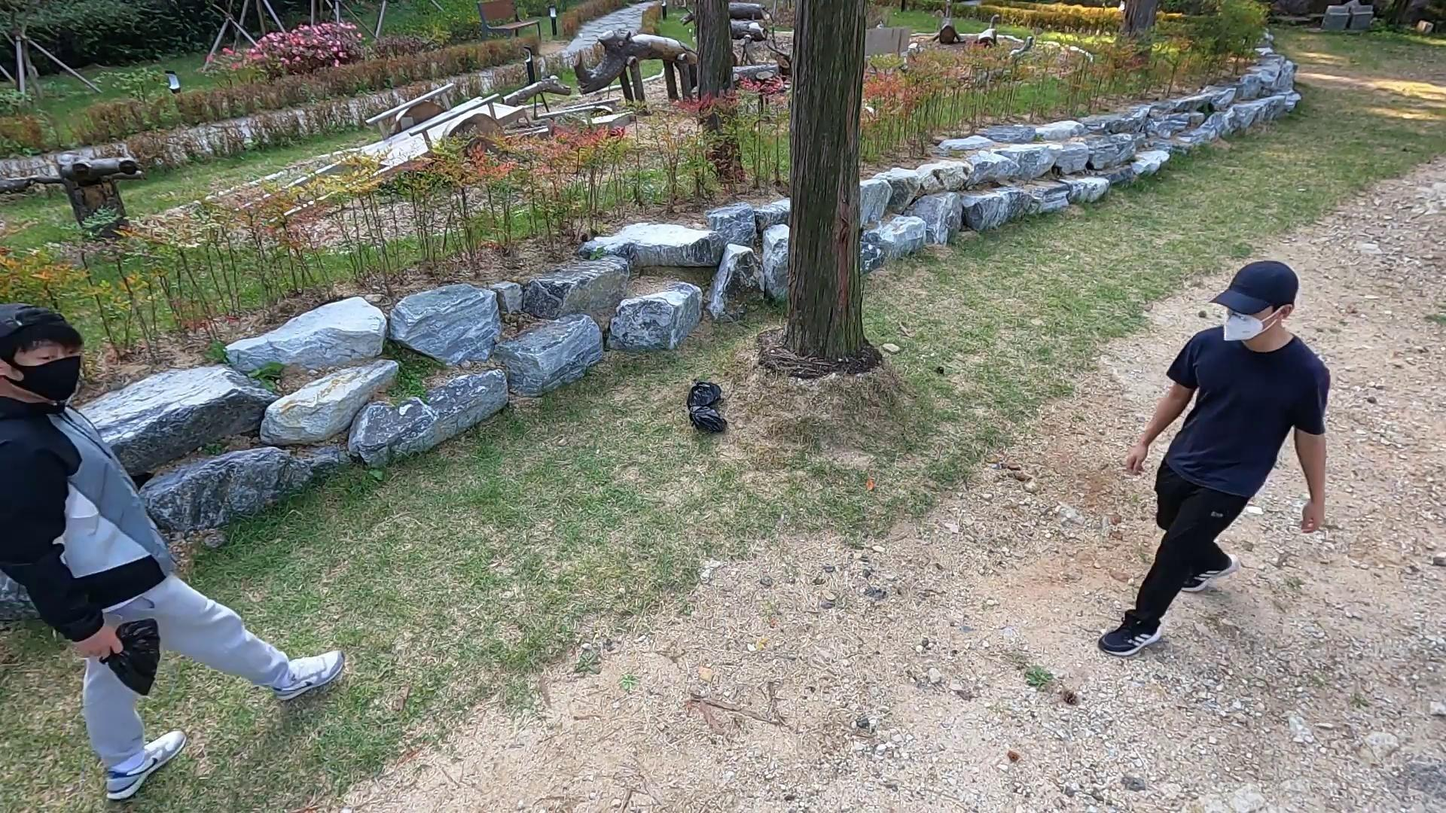person: (0, 300, 339, 813), (1098, 258, 1335, 657)
trash: (100, 615, 164, 695), (686, 379, 723, 408), (688, 405, 727, 432)
